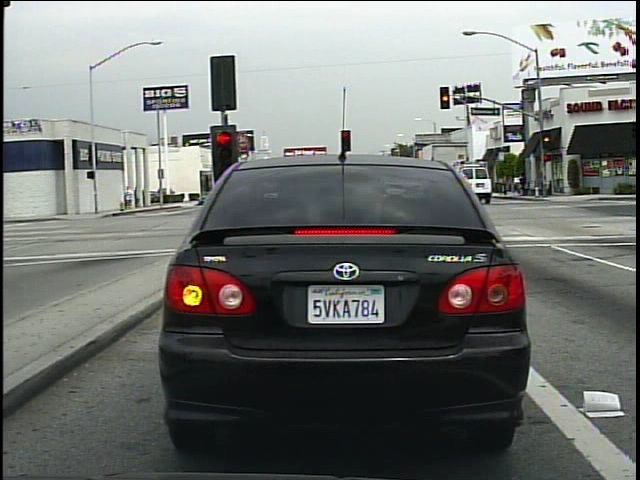person: (517, 170, 530, 197), (123, 183, 135, 212)
